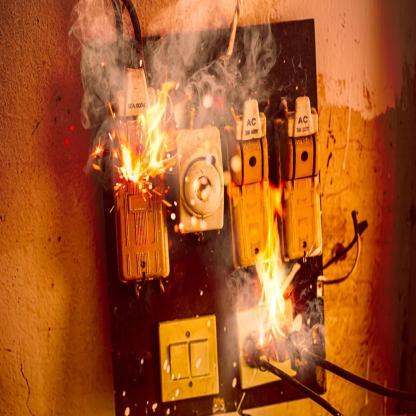fire: (123, 76, 172, 187), (252, 209, 296, 311)
smoke: (65, 0, 280, 148)
